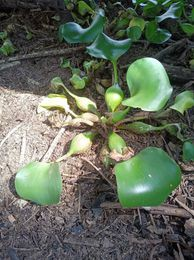water_hyacinth: (15, 0, 194, 212)
